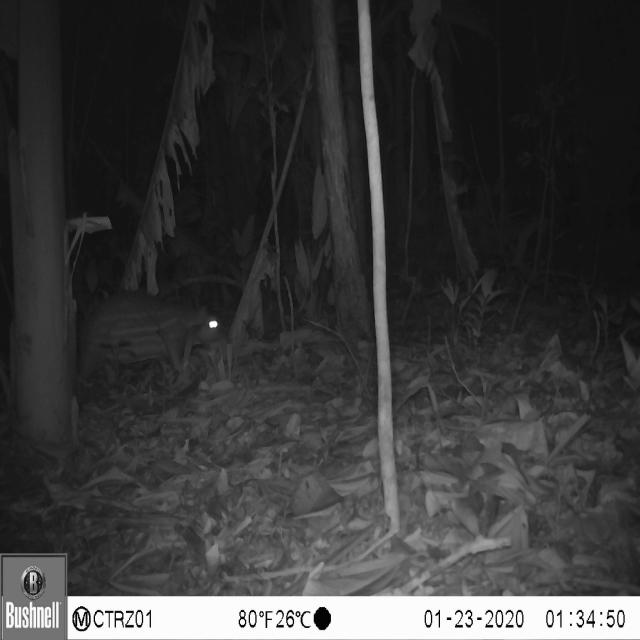Spotted Paca: (72, 281, 229, 387)
